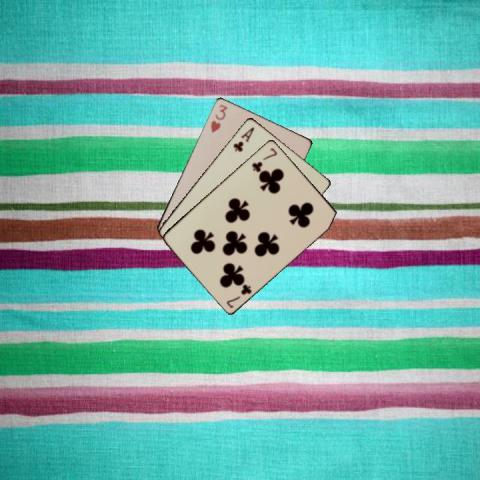3h: (207, 101, 229, 134)
7c: (248, 144, 278, 172), (223, 281, 253, 309)
Ac: (230, 124, 255, 153)
